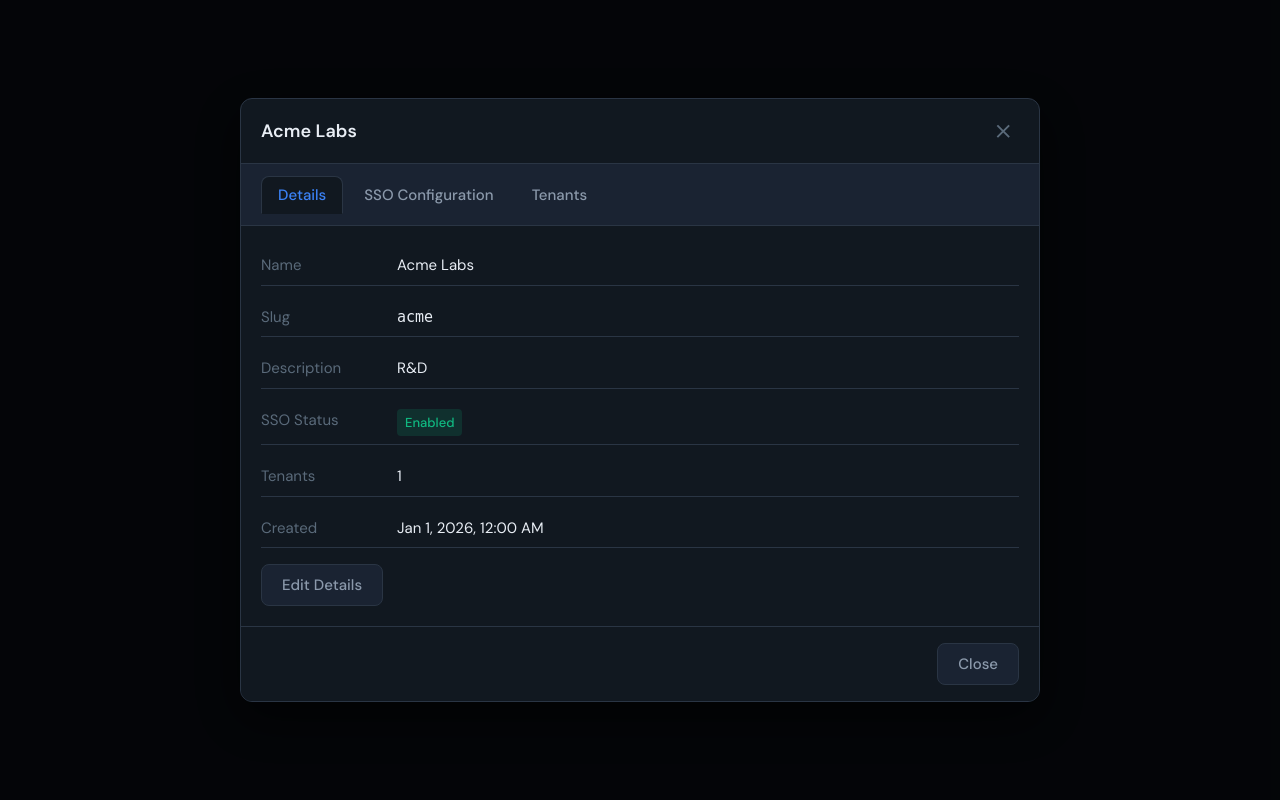
Test case: tenants tab › adds a tenant and warns when its own SSO is now overridden
The image size is (1280, 800).
Check: the heading "Acme Labs" is shown, box [261, 120, 357, 142]
Step 1. Click the button "tenants" → (559, 195), box [515, 176, 604, 214]
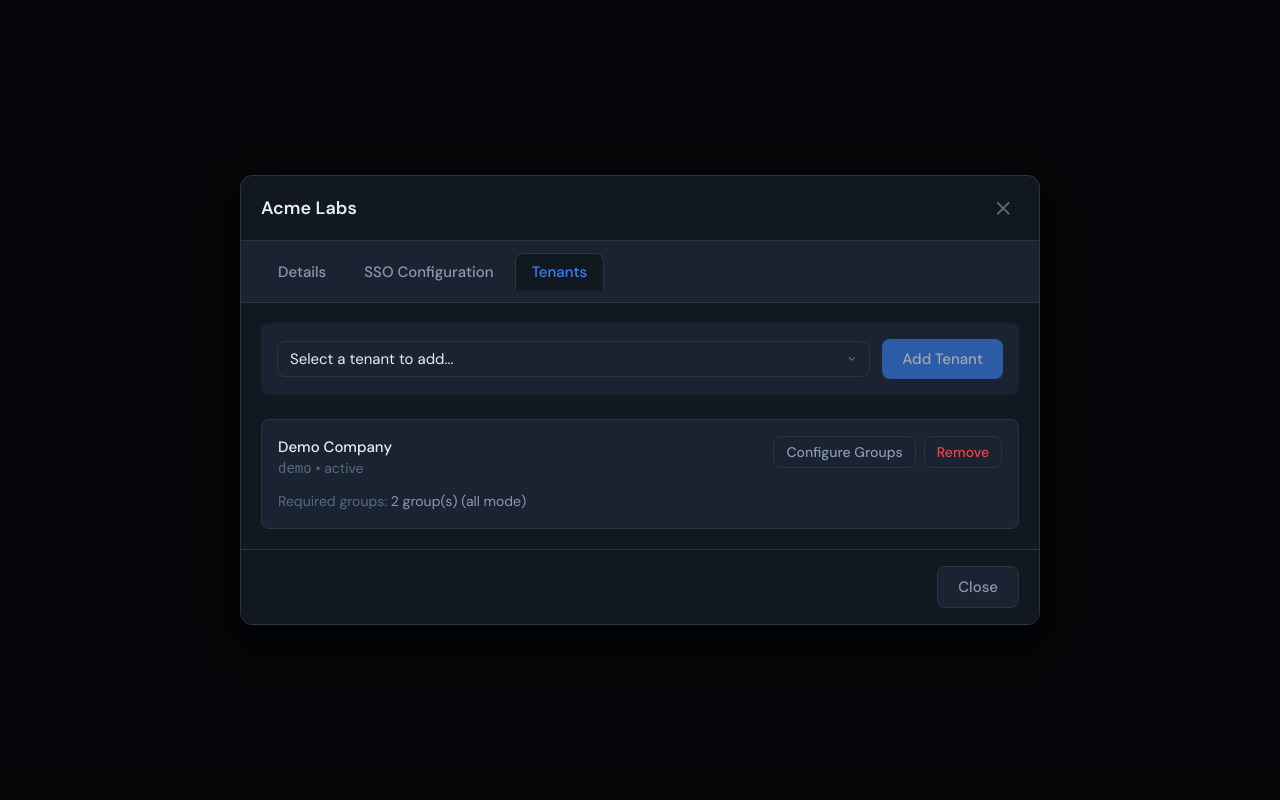
Step 2. Select "Other Co (other)" in the dropdown named "Tenant to add" → (574, 359), box [277, 341, 870, 377]
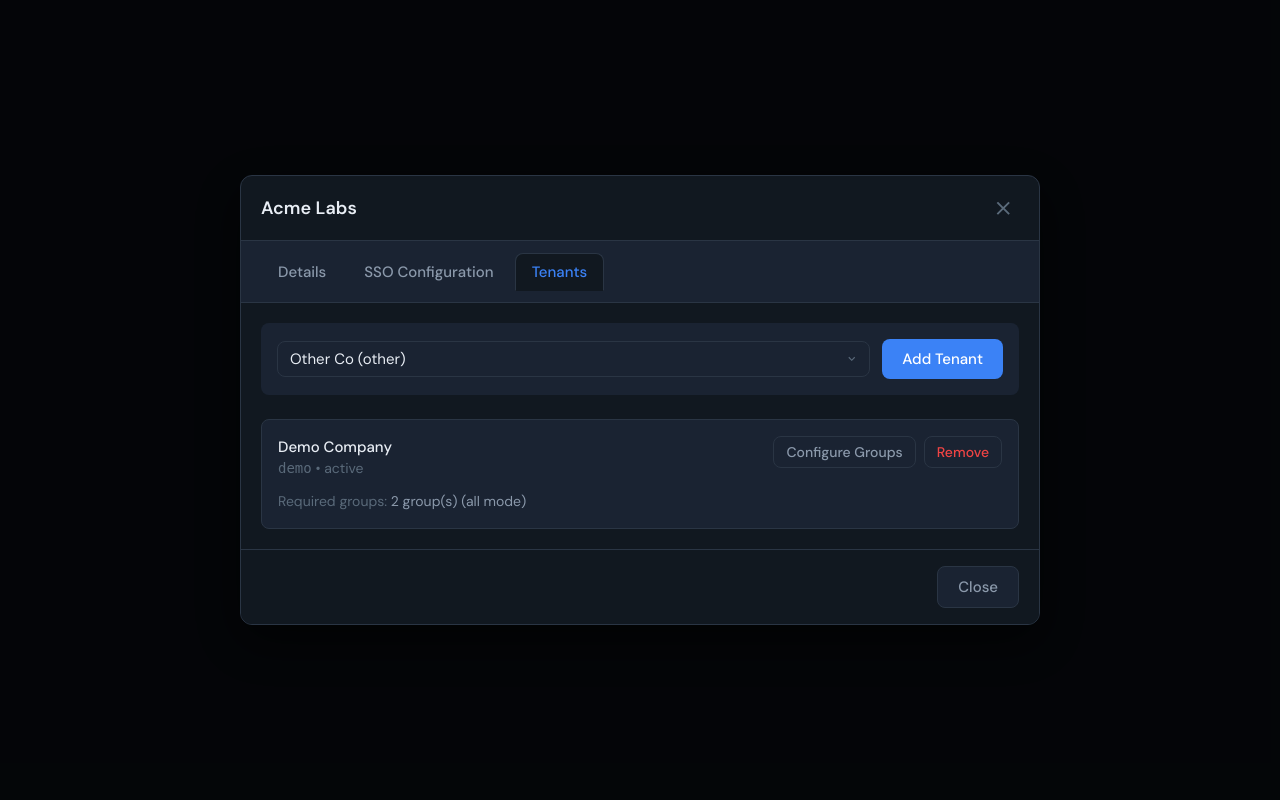
Step 3. Click the button "Add Tenant" → (943, 359), box [882, 339, 1003, 379]
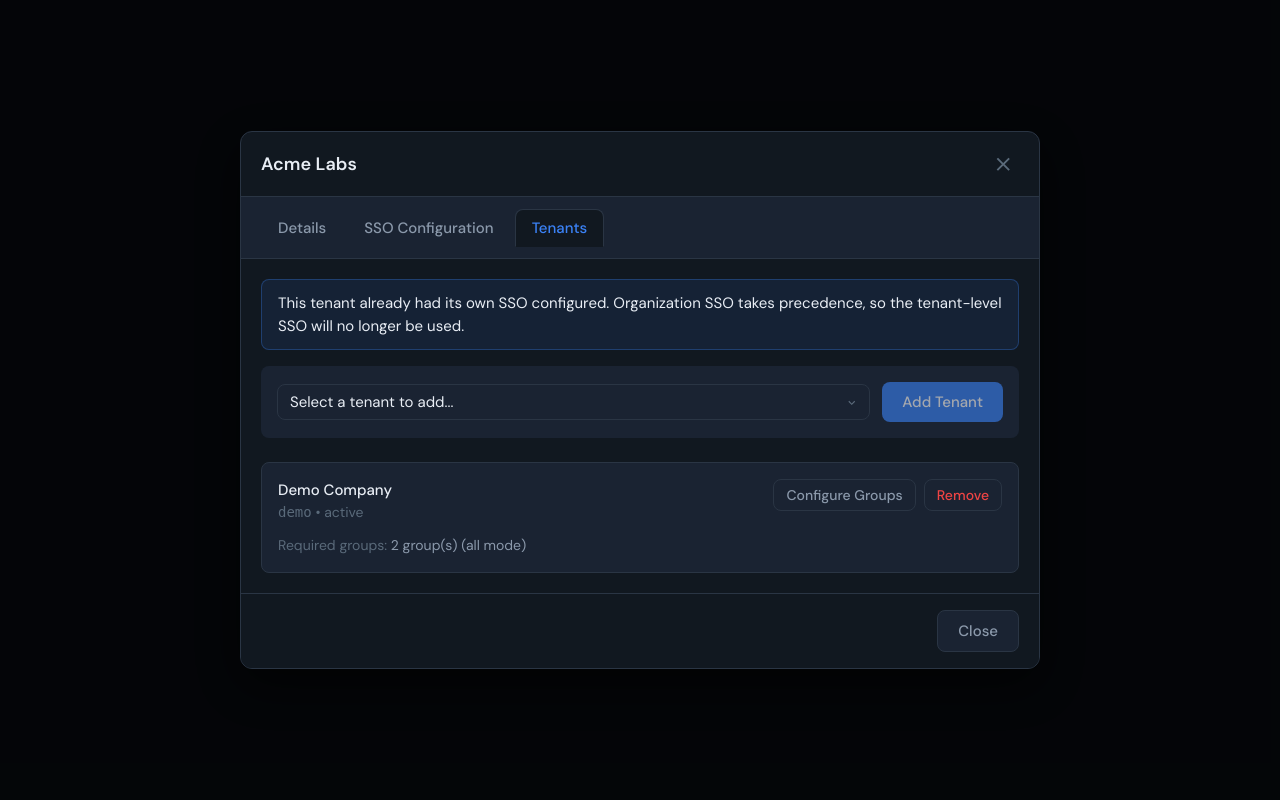
Check: the text "already had its own SSO configured" is shown, box [278, 293, 1002, 336]
